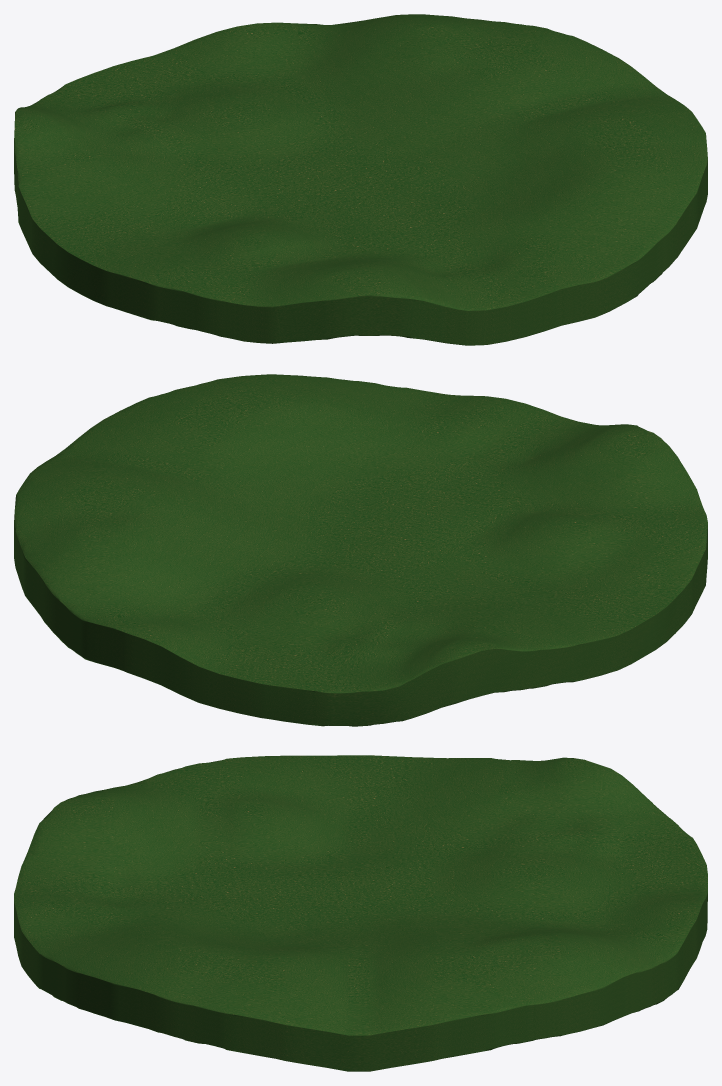
File: 3.2_exam_3dscene_Boden_simpletextured.glb
The picture shows the model from 3 angles, top to bottom: view 1: azimuth 30°, elevation 25°; view 2: azimuth 150°, elevation 25°; view 3: azimuth 270°, elevation 25°; orthographic projection.
Visible parts, largest first — view 1: Boden; view 2: Boden; view 3: Boden.
Part boxes in pixels (x1,y1,x2,y2): Boden: [14, 14, 707, 345]; Boden: [14, 374, 707, 726]; Boden: [14, 755, 707, 1071].
Size of the model in its own units: 87.03 by 10.24 by 87.53.
Materials: 1 (1 with a texture image).
